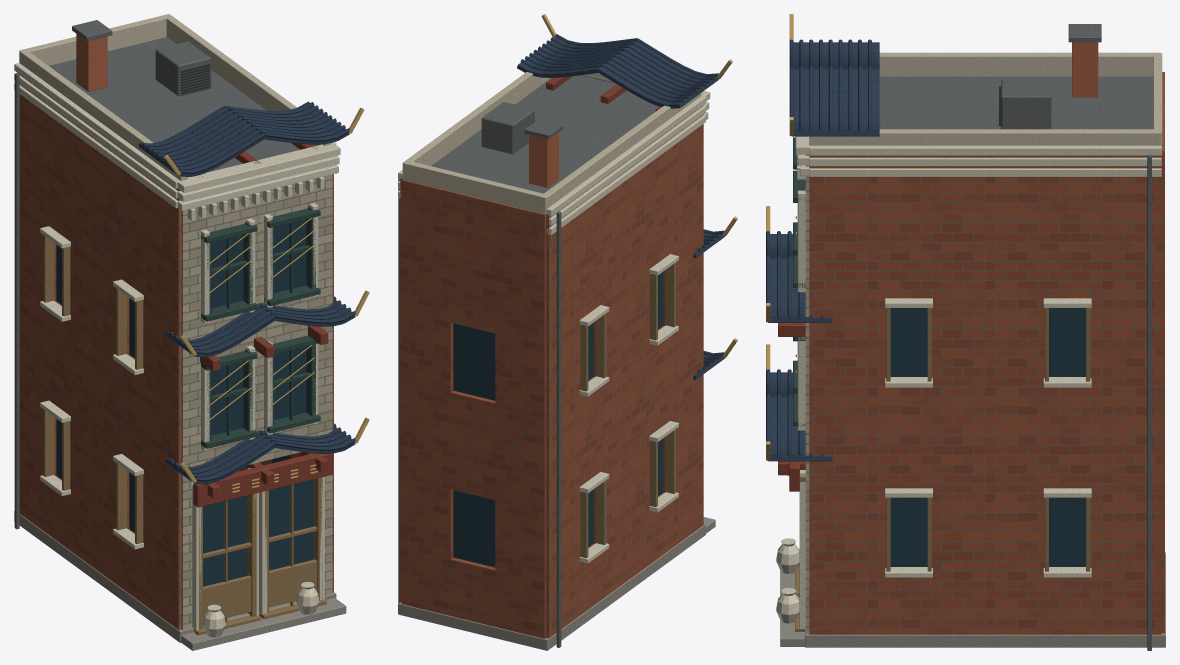
Rendered from CHINA13_lod1.glb.
The picture shows the model from 3 angles, left to right: view 1: azimuth 30°, elevation 25°; view 2: azimuth 150°, elevation 25°; view 3: azimuth 270°, elevation 25°; orthographic projection. The views are drawn at different scales.
Visible parts, largest first — view 1: CHINA13_LOD1; view 2: CHINA13_LOD1; view 3: CHINA13_LOD1.
Part boxes in pixels (box(x1,y1,x2,y2)): CHINA13_LOD1: box(14, 14, 369, 650); CHINA13_LOD1: box(398, 14, 737, 650); CHINA13_LOD1: box(766, 14, 1165, 650).
Size of the model in its own units: 4.25 by 10.45 by 6.81.
Materials: 15 (12 with a texture image).
